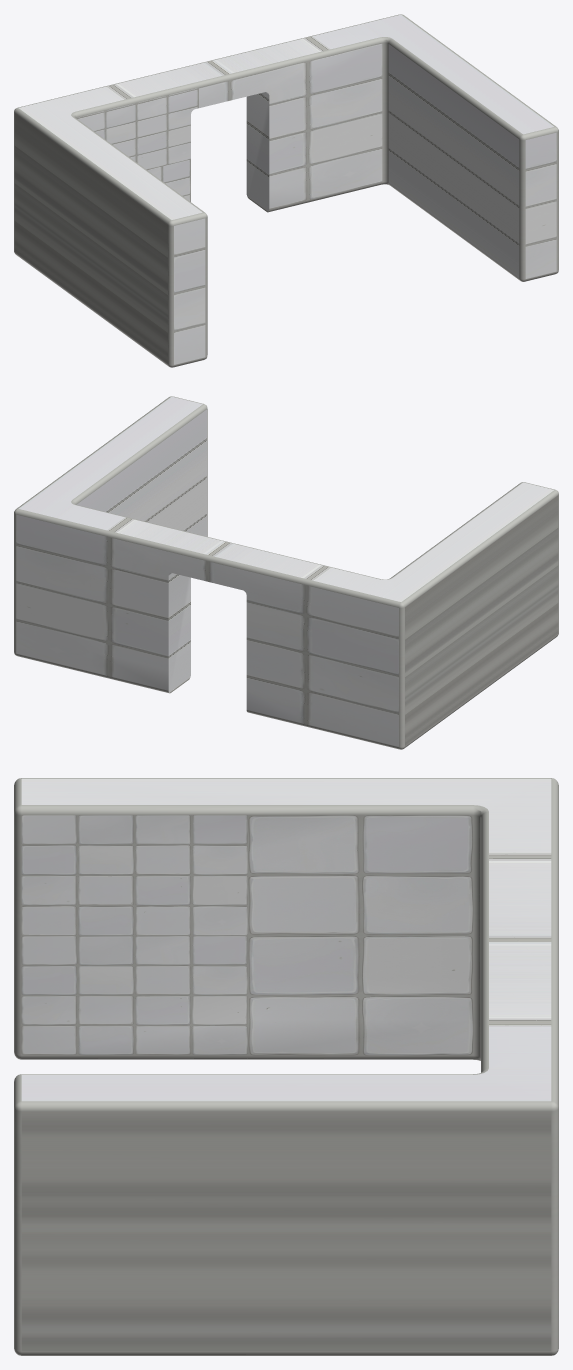
Rendered from HH_Hawker.fbx.
The picture shows the model from 3 angles, top to bottom: view 1: azimuth 30°, elevation 25°; view 2: azimuth 150°, elevation 25°; view 3: azimuth 270°, elevation 25°; orthographic projection. The views are drawn at different scales.
Visible parts, largest first — view 1: Kitchen; view 2: Kitchen; view 3: Kitchen.
Boxes of the visible parts, left/top/right/bottom form: Kitchen: left=14, top=14, right=558, bottom=367; Kitchen: left=14, top=396, right=558, bottom=749; Kitchen: left=14, top=778, right=558, bottom=1355.
Size of the model in its own units: 1000 by 360 by 700.
1 material, 1 textured.
